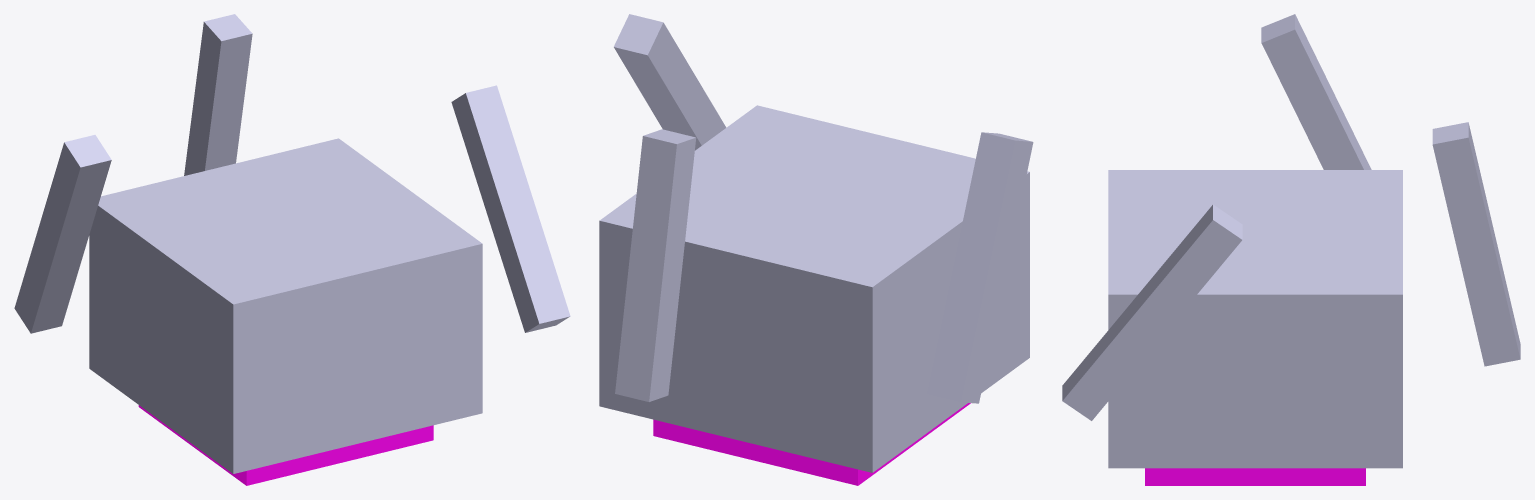
Rendered from light_void_debug.glb.
3 renders of one model, left to right at view 1: azimuth 30°, elevation 25°; view 2: azimuth 150°, elevation 25°; view 3: azimuth 270°, elevation 25°, orthographic. The views are drawn at different scales.
Visible parts, largest first — view 1: light_void_debug; view 2: light_void_debug; view 3: light_void_debug.
Boxes of the visible parts, box(x1,y1,x2,y2) form: light_void_debug: box(14, 14, 570, 485); light_void_debug: box(599, 14, 1033, 485); light_void_debug: box(1062, 14, 1520, 485).
Bounding box in the file's own units: 0.63 × 0.4915 × 0.6221.
